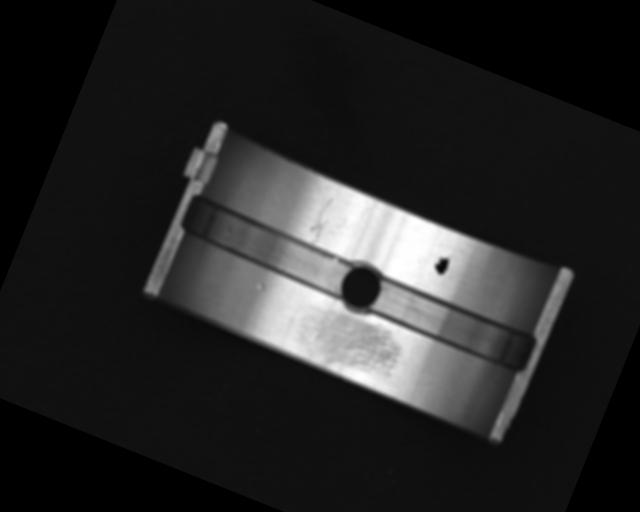blot: (430, 248, 454, 278)
bruise: (254, 279, 269, 294)
gap: (177, 191, 359, 303), (365, 273, 539, 376)
hole: (332, 255, 389, 318)
nick: (304, 191, 338, 247)
scratch: (286, 297, 409, 392)
